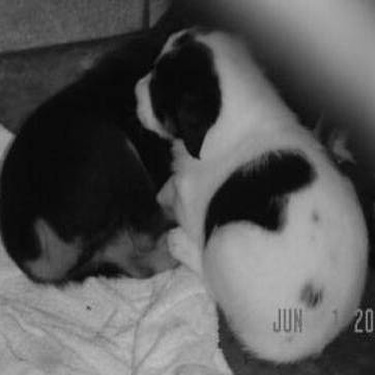dog: (130, 18, 370, 366), (2, 5, 189, 288)
